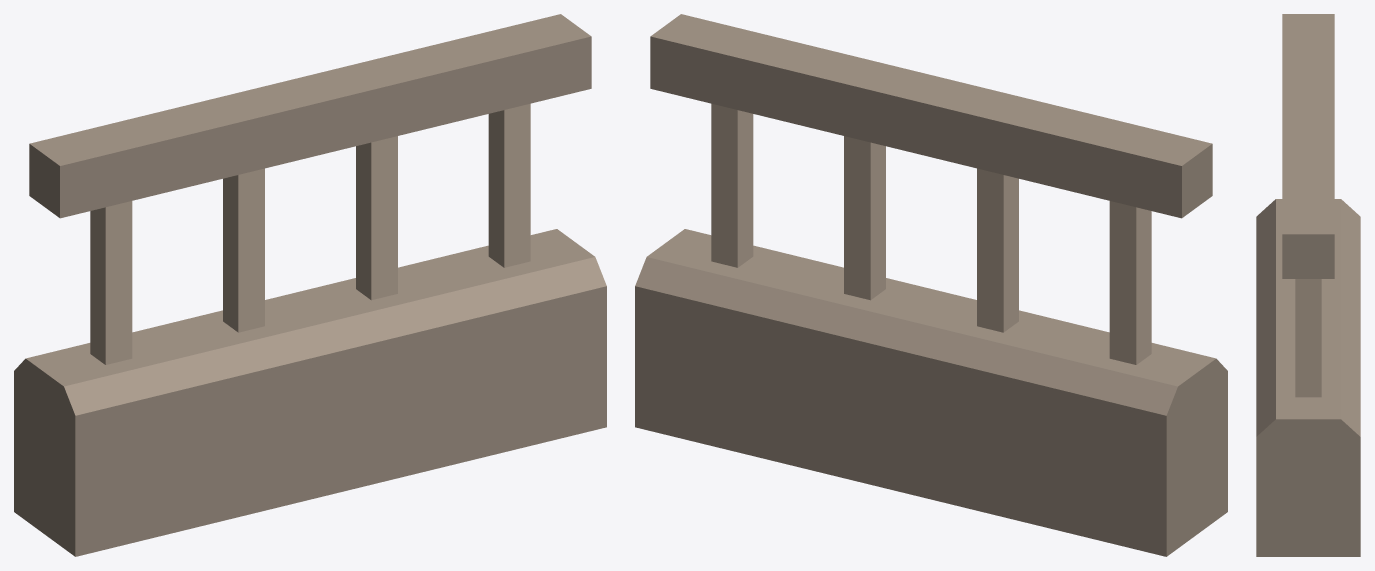
The model's file is Wood_Railing_Straight.glb.
3 renders of one model, left to right at view 1: azimuth 30°, elevation 25°; view 2: azimuth 150°, elevation 25°; view 3: azimuth 270°, elevation 25°, orthographic. The views are drawn at different scales.
Parts seen in each view (by area): view 1: object3, object1, object5, object6, object2, object4; view 2: object3, object1, object5, object6, object2, object4; view 3: object3, object1, object6.
Part boxes in pixels (box(x1,y1,x2,y2)): object3: box(14, 229, 606, 556); object1: box(29, 14, 591, 218); object5: box(90, 201, 132, 364); object6: box(488, 103, 530, 267); object2: box(356, 136, 397, 300); object4: box(223, 168, 264, 332); object3: box(635, 229, 1227, 556); object1: box(650, 14, 1212, 218); object5: box(1109, 201, 1151, 364); object6: box(711, 103, 753, 267); object2: box(844, 136, 885, 300); object4: box(977, 168, 1018, 332); object3: box(1256, 199, 1360, 556); object1: box(1282, 14, 1334, 278); object6: box(1295, 279, 1321, 397).
Bounding box in the file's own units: 1 × 0.6826 × 0.2.
